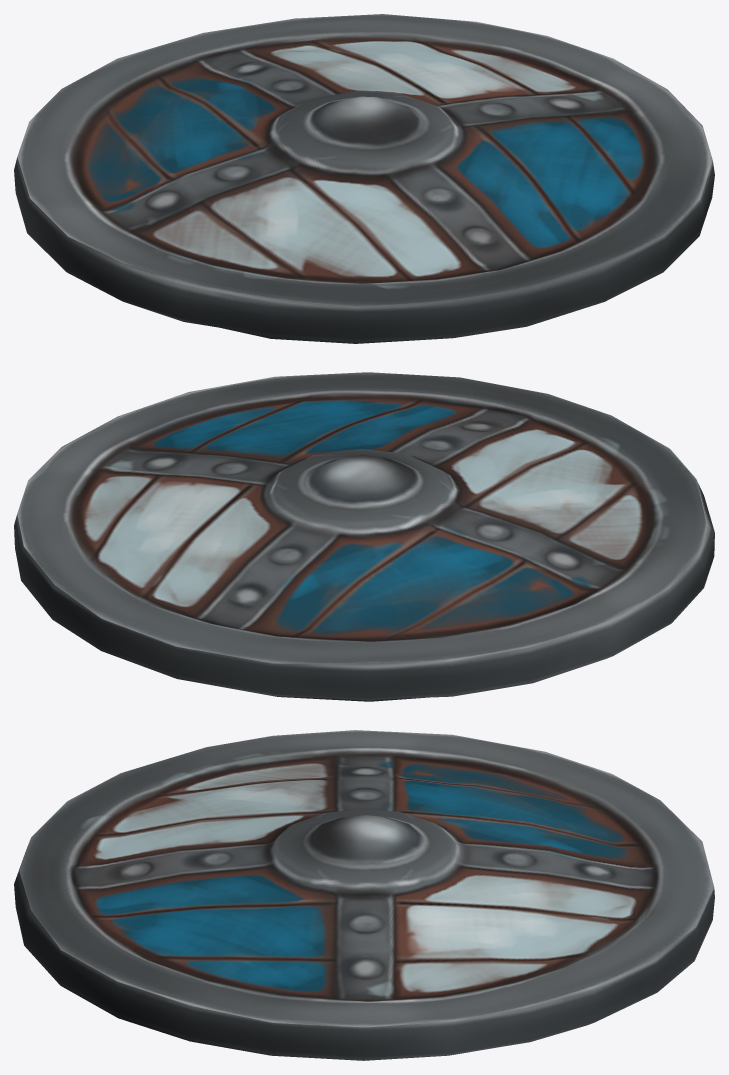
File: Shield.FBX
The picture shows the model from 3 angles, top to bottom: view 1: azimuth 30°, elevation 25°; view 2: azimuth 150°, elevation 25°; view 3: azimuth 270°, elevation 25°; orthographic projection.
Parts seen in each view (by area): view 1: Shield; view 2: Shield; view 3: Shield.
Part boxes in pixels (box(x1,y1,x2,y2)): Shield: box(14, 14, 714, 343); Shield: box(14, 372, 714, 701); Shield: box(14, 730, 714, 1060).
Bounding box in the file's own units: 62.67 × 62.63 × 12.92.
